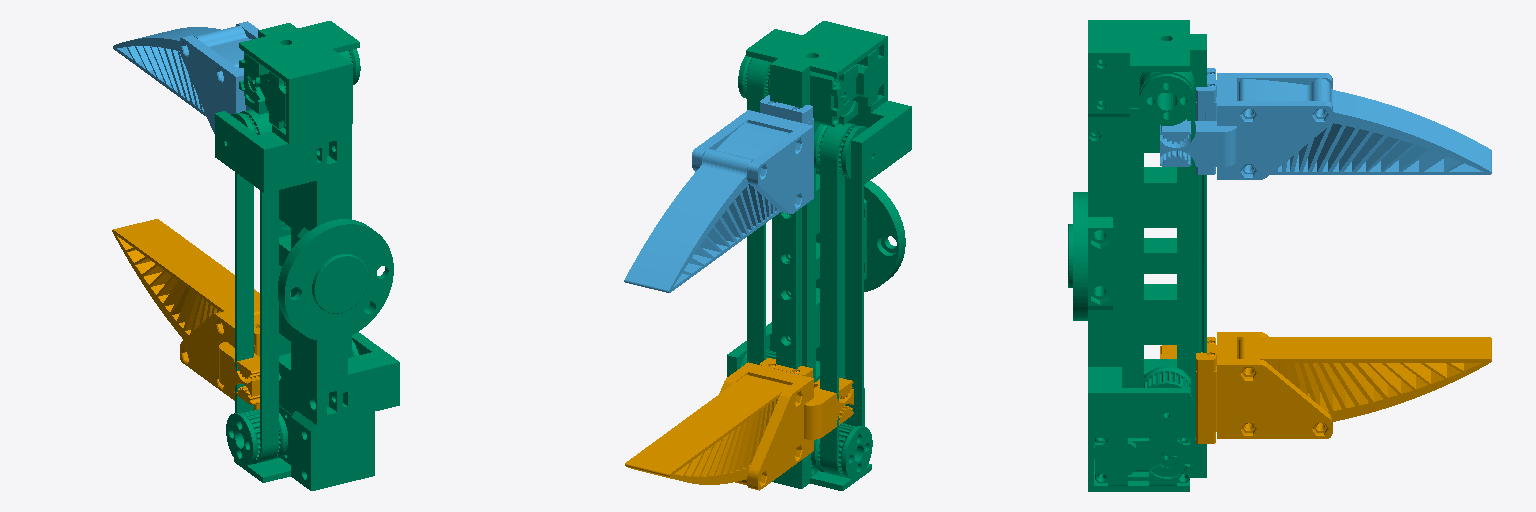
robot.urdf — force_control_gripper:
<?xml version='1.0' encoding='utf-8'?>
<robot name="force_control_gripper">
    <link name="left_figure">
        <inertial>
            <origin xyz="0.0039140878713019465 0.0363213180478208 -0.019212149166772524" rpy="0.0 -0.0 0.0" />
            <mass value="0.7290858212317849" />
            <inertia ixx="0.0009567320931237102" iyy="0.00018598568132813936" izz="0.0009503563127682703" ixy="-4.319953187031681e-05" iyz="-6.712899236421582e-05" ixz="-1.8346003333227254e-07" />
        </inertial>
        <visual name="left_figure_visual">
            <origin xyz="0.0054782322593601405 -0.002538307703411997 0.054754926046441506" rpy="-3.141592653589793 3.570089879990766e-13 -3.141592653589793" />
            <geometry>
                <mesh filename="meshes/left_figure.stl" scale="0.001 0.001 0.001" />
            </geometry>
        </visual>
        <collision name="left_figure_collision">
            <origin xyz="0.0054782322593601405 -0.002538307703411997 0.054754926046441506" rpy="-3.141592653589793 3.570089879990766e-13 -3.141592653589793" />
            <geometry>
                <mesh filename="meshes/left_figure.stl" scale="0.001 0.001 0.001" />
            </geometry>
        </collision>
    </link>
    <link name="right_figure">
        <inertial>
            <origin xyz="0.007085909275558089 -0.036321318047820905 0.030787850065817714" rpy="0.0 -0.0 0.0" />
            <mass value="0.729085821231785" />
            <inertia ixx="0.0009567320931237119" iyy="0.0001859856813281411" izz="0.0009503563127682708" ixy="-4.319953187031697e-05" iyz="6.712899236421604e-05" ixz="1.834600333322099e-07" />
        </inertial>
        <visual name="right_figure_visual">
            <origin xyz="0.005521764887499895 0.002538307703411878 0.10475492527903174" rpy="-3.141592653589793 3.5688652331916185e-13 0.0" />
            <geometry>
                <mesh filename="meshes/right_figure.stl" scale="0.001 0.001 0.001" />
            </geometry>
        </visual>
        <collision name="right_figure_collision">
            <origin xyz="0.005521764887499895 0.002538307703411878 0.10475492527903174" rpy="-3.141592653589793 3.5688652331916185e-13 0.0" />
            <geometry>
                <mesh filename="meshes/right_figure.stl" scale="0.001 0.001 0.001" />
            </geometry>
        </collision>
    </link>
    <link name="base-1">
        <inertial>
            <origin xyz="6.886875168914372e-06 -0.03027526112285501 0.00011938041814217152" rpy="0.0 0.0 0.0" />
            <mass value="2.860956390976862" />
            <inertia ixx="0.015979939915842623" iyy="0.015695110232053375" izz="0.001461791518230924" ixy="-1.2192499532982057e-06" iyz="-2.9345391647553618e-06" ixz="0.0008557882295470238" />
        </inertial>
        <visual name="base-1_visual">
            <origin xyz="0.0 0.0 0.0" rpy="0.0 0.0 0.0" />
            <geometry>
                <mesh filename="meshes/base-1.stl" scale="0.001 0.001 0.001" />
            </geometry>
        </visual>
        <collision name="base-1_collision">
            <origin xyz="0.0 0.0 0.0" rpy="0.0 0.0 0.0" />
            <geometry>
                <mesh filename="meshes/base-1.stl" scale="0.001 0.001 0.001" />
            </geometry>
        </collision>
    </link>
    <joint name="base-1_Slider-15" type="prismatic">
        <origin xyz="-0.00548381 0.0025 -0.05" rpy="0.0 -0.0 0.0" />
        <parent link="base-1" />
        <child link="left_figure" />
        <axis xyz="0.0 0.0 1.0" />
        <limit lower="0.0" upper="0.0992" effort="1000000" velocity="1000000" />
    </joint>
    <joint name="base-1_Slider-16" type="prismatic">
        <origin xyz="-0.00548381 0.0025 0.1" rpy="3.141592653589793 -0.0 0.0" />
        <parent link="base-1" />
        <child link="right_figure" />
        <axis xyz="0.0 0.0 1.0" />
        <limit lower="0.0" upper="0.0992" effort="1000000" velocity="1000000" />
    </joint>
</robot>

--- Facts derived from the render (not from the file) ---
3 views of the same robot in one strip: view 1: azimuth 30°, elevation 25°; view 2: azimuth 150°, elevation 25°; view 3: azimuth 270°, elevation 25° (orthographic).
Robot: force_control_gripper — 3 links, 2 joints (2 prismatic); root link base-1; default pose: every joint at zero.
Visible links, largest first — view 1: base-1, left_figure, right_figure; view 2: base-1, right_figure, left_figure; view 3: base-1, right_figure, left_figure.
Boxes of the visible links, box(x1,y1,x2,y2) form: base-1: box(215, 21, 399, 490); left_figure: box(112, 219, 259, 409); right_figure: box(113, 21, 258, 133); base-1: box(727, 21, 911, 490); right_figure: box(624, 95, 813, 292); left_figure: box(625, 358, 853, 490); base-1: box(1068, 20, 1206, 491); right_figure: box(1160, 68, 1491, 179); left_figure: box(1160, 332, 1491, 443).
Size in the robot's own frame: 0.078 by 0.2065 by 0.23 metres.
Meshes: 3 distinct files referenced, 3 mesh visuals loaded (3 binary STL).
